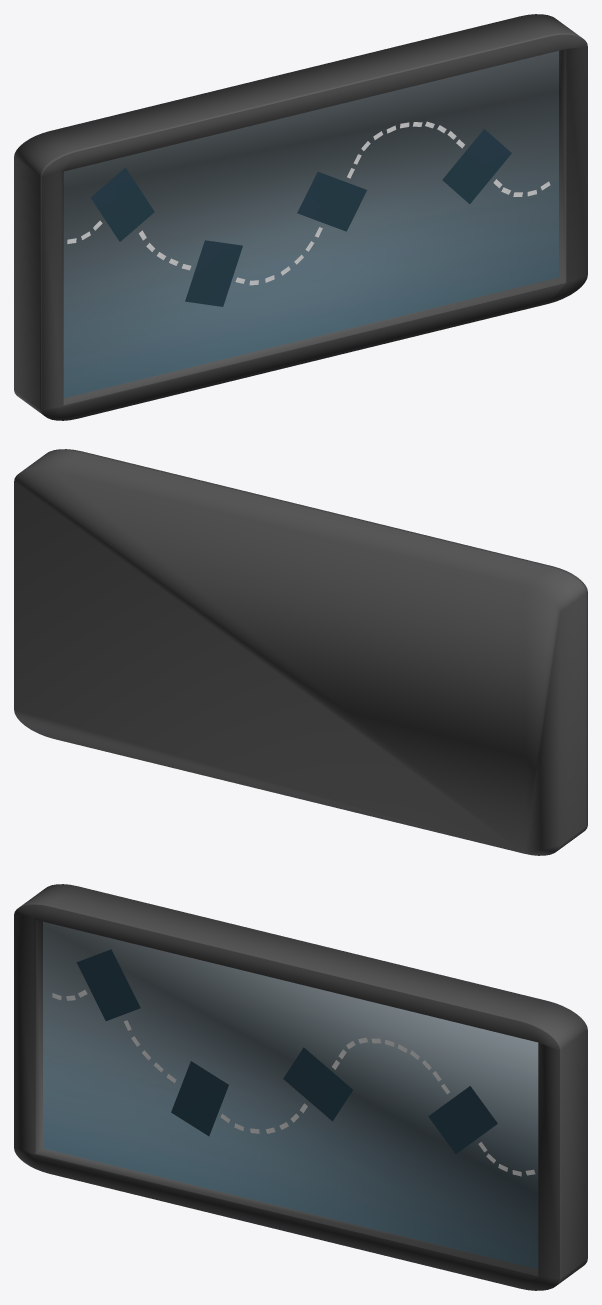
The model's file is Table.fbx.
3 views of the same model, one above another, from view 1: azimuth 30°, elevation 25°; view 2: azimuth 150°, elevation 25°; view 3: azimuth 330°, elevation 25° (orthographic).
Parts seen in each view (by area): view 1: Cube.008; view 2: Cube.008; view 3: Cube.008.
Boxes of the visible parts, x1,y1,x2,y2 form: Cube.008: (14, 14, 587, 420); Cube.008: (14, 449, 587, 855); Cube.008: (14, 884, 587, 1290).
Bounding box in the file's own units: 1094 × 511 × 96.88.
